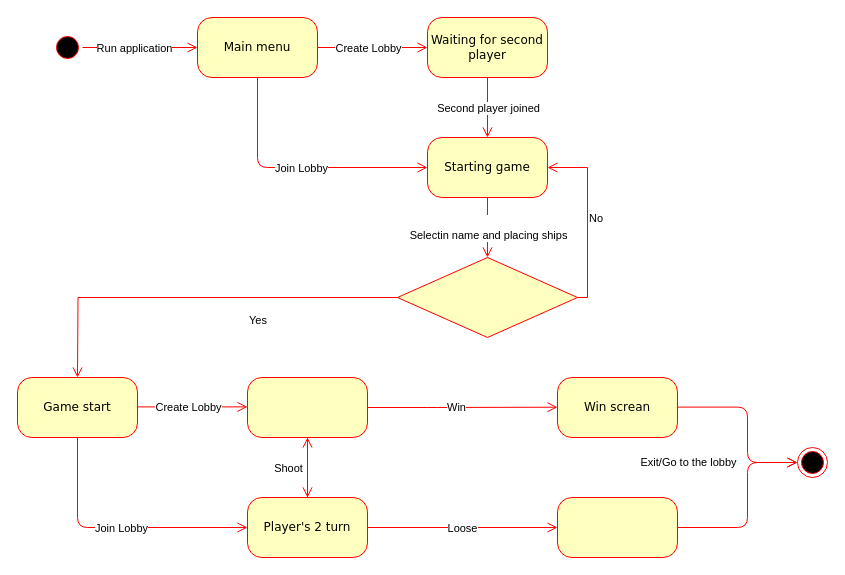
The diagram is 845 pixels wide and 575 high, and some of its shapes have lost their labels. The box of each missing label's shape, as (x1, y1, x2, y2) in pixels:
All ships are placed and second player ready?: (396, 256, 578, 338)
Loose screan: (556, 496, 678, 558)
Player's 1 turn: (246, 376, 368, 438)
